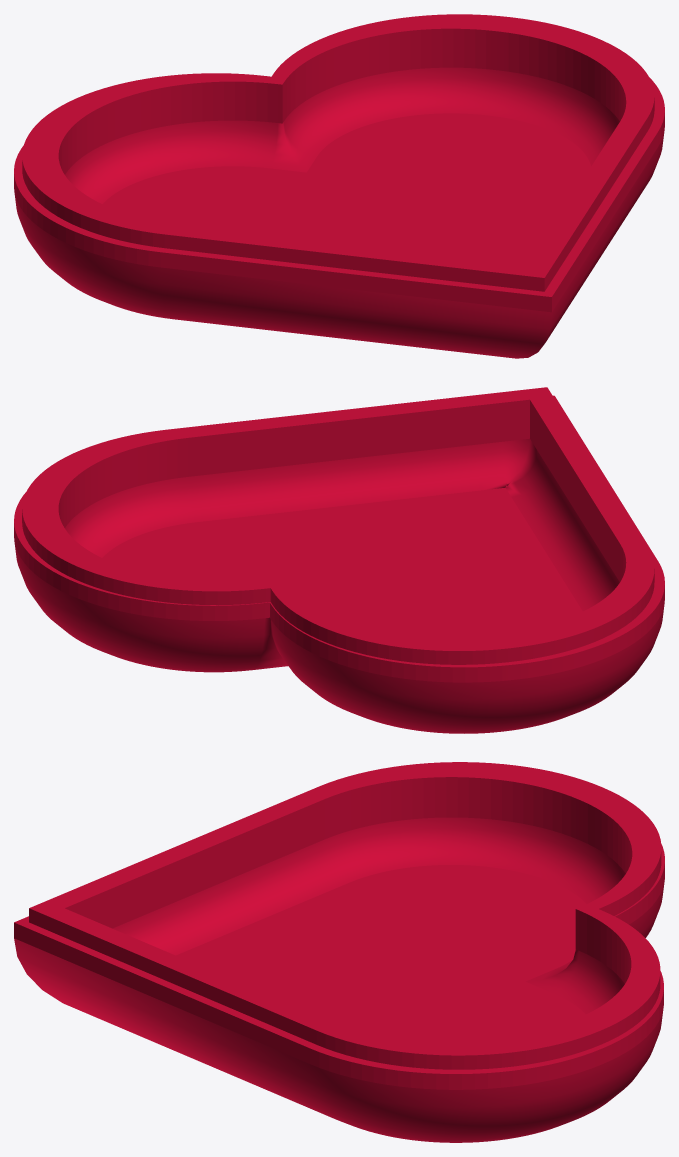
The model's file is heart.obj.
3 views of the same model, one above another, from view 1: azimuth 30°, elevation 25°; view 2: azimuth 150°, elevation 25°; view 3: azimuth 270°, elevation 25° (orthographic). The views are drawn at different scales.
Visible parts, largest first — view 1: Heart_2_Cube.001; view 2: Heart_2_Cube.001; view 3: Heart_2_Cube.001.
Boxes of the visible parts, left/top/right/bottom form: Heart_2_Cube.001: left=14, top=14, right=664, bottom=358; Heart_2_Cube.001: left=14, top=387, right=664, bottom=733; Heart_2_Cube.001: left=14, top=762, right=664, bottom=1142.
Bounding box in the file's own units: 3.57 × 0.625 × 3.26.
